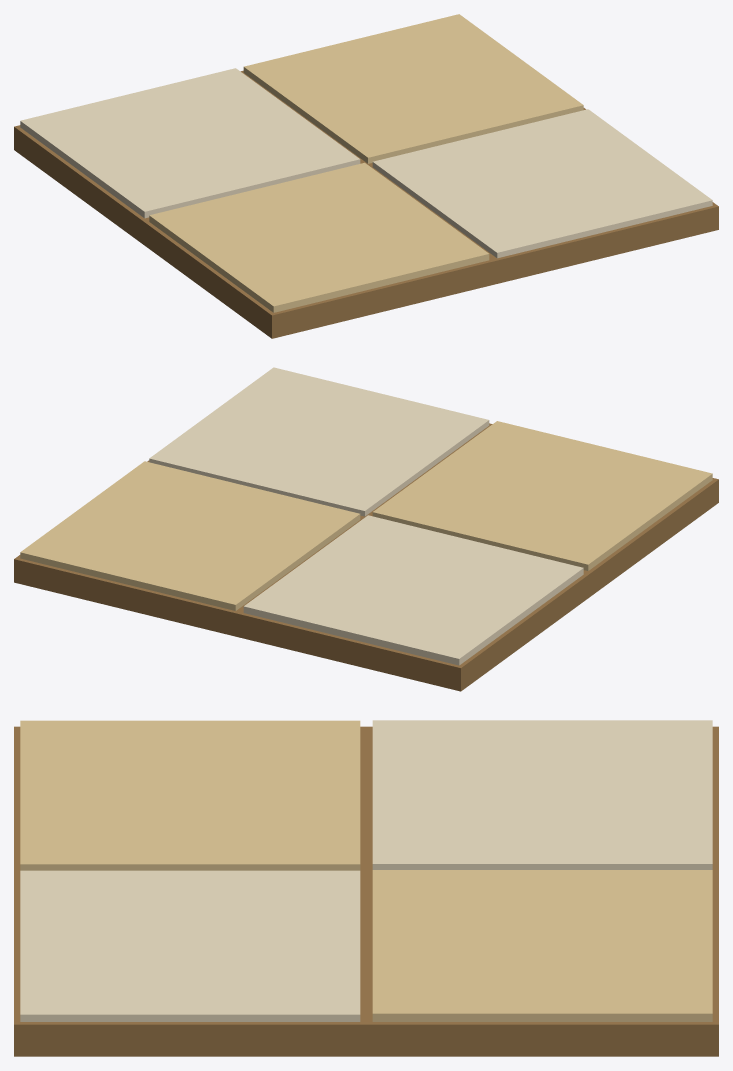
The model's file is desert_tile_c.glb.
3 renders of one model, top to bottom at view 1: azimuth 30°, elevation 25°; view 2: azimuth 150°, elevation 25°; view 3: azimuth 270°, elevation 25°, orthographic. The views are drawn at different scales.
Visible parts, largest first — view 1: desert_tile_c; view 2: desert_tile_c; view 3: desert_tile_c.
Part boxes in pixels (x1,y1,x2,y2): desert_tile_c: (14, 14, 718, 338); desert_tile_c: (14, 367, 718, 691); desert_tile_c: (14, 720, 718, 1056).
Size of the model in its own units: 2 by 0.1283 by 2.
